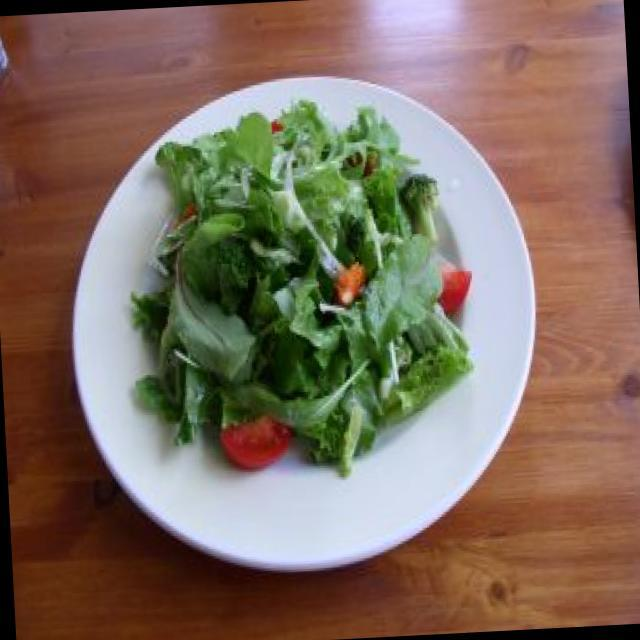Green Salad: (124, 94, 472, 468)
